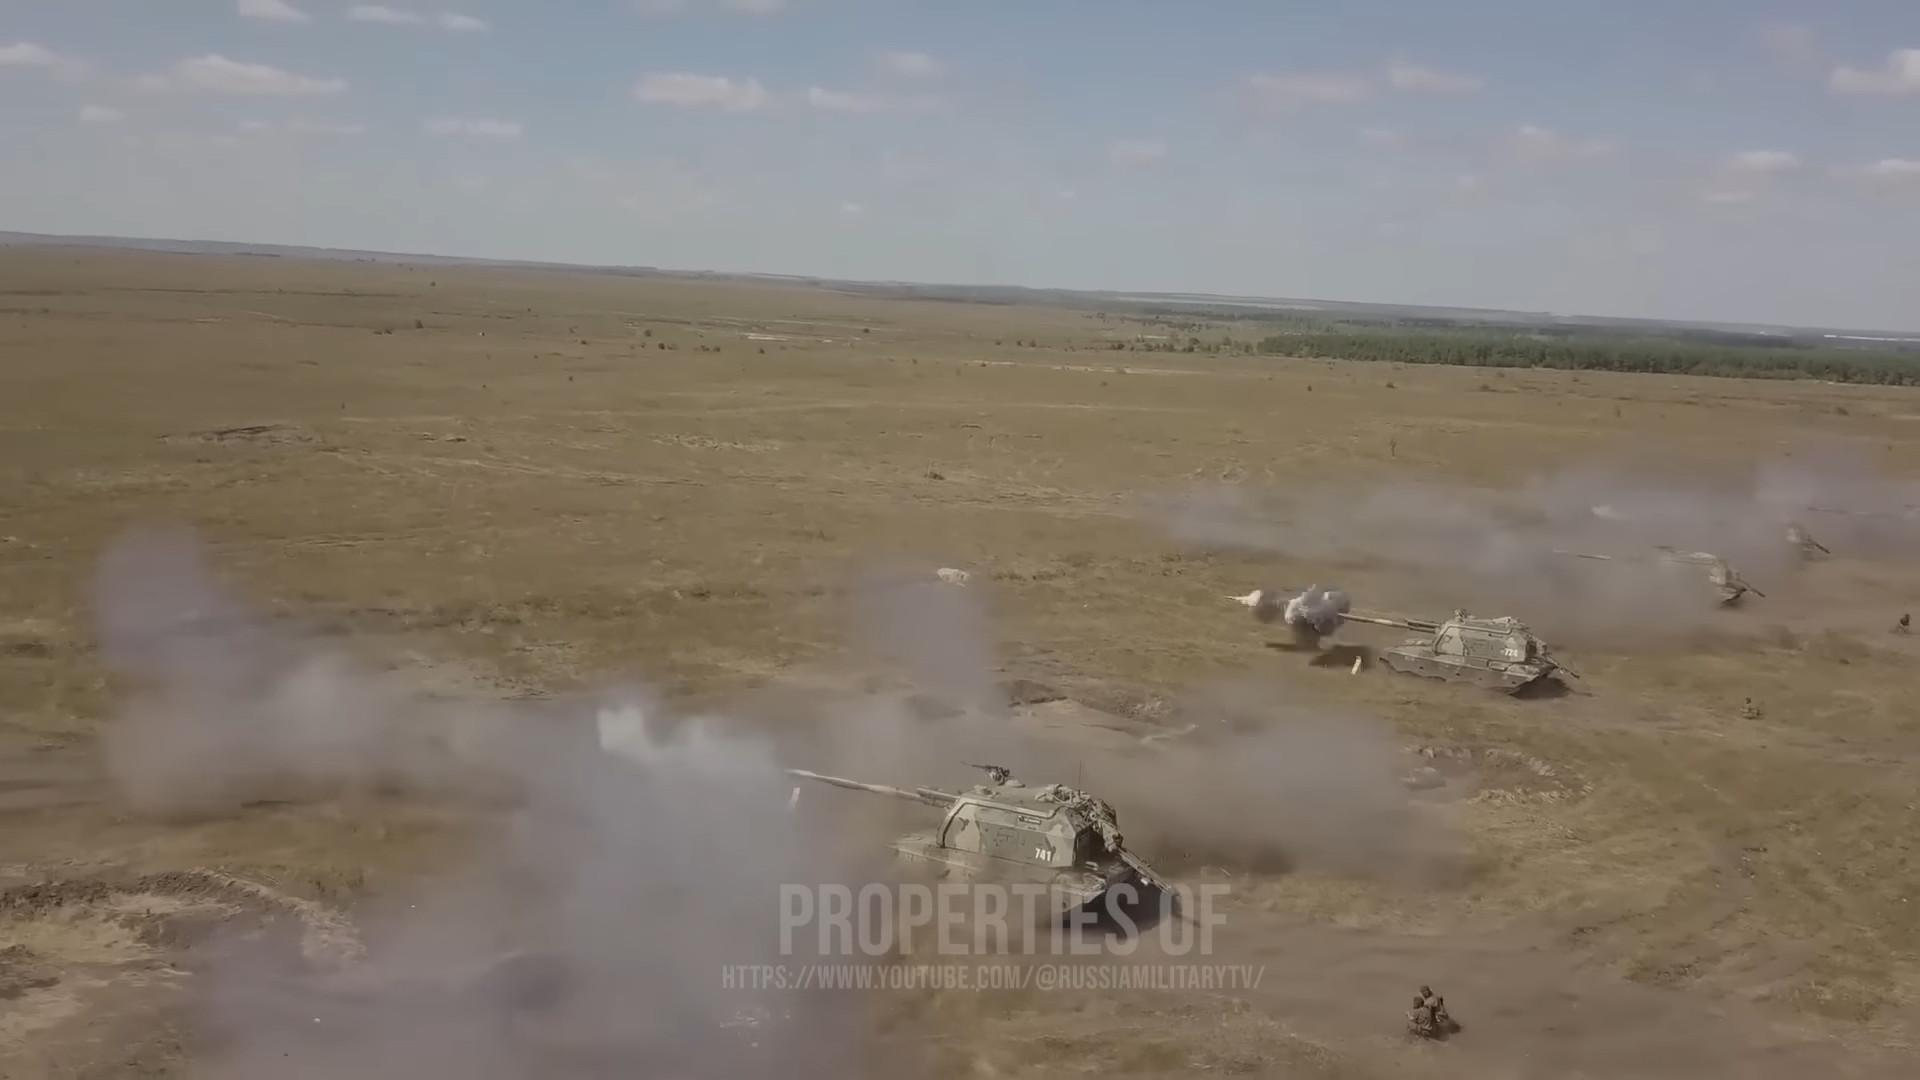tank: (783, 767, 1178, 927), (1336, 608, 1560, 694)
